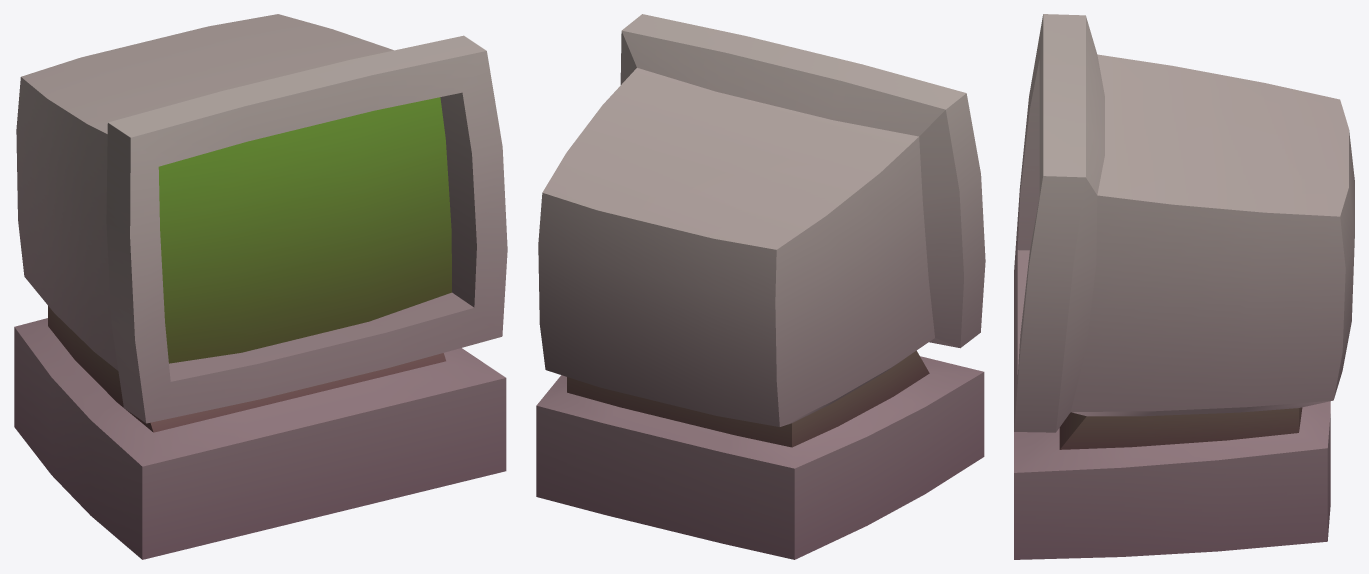
Rendered from puter.glb.
The picture shows the model from 3 angles, left to right: view 1: azimuth 30°, elevation 25°; view 2: azimuth 150°, elevation 25°; view 3: azimuth 270°, elevation 25°; orthographic projection. The views are drawn at different scales.
Parts seen in each view (by area): view 1: Cube; view 2: Cube; view 3: Cube.
Part boxes in pixels (left/top/right/bottom): Cube: left=14, top=14, right=507, bottom=559; Cube: left=536, top=14, right=985, bottom=559; Cube: left=1014, top=14, right=1354, bottom=559.
Size of the model in its own units: 1.83 by 1.94 by 1.55.
1 material, 1 textured.
